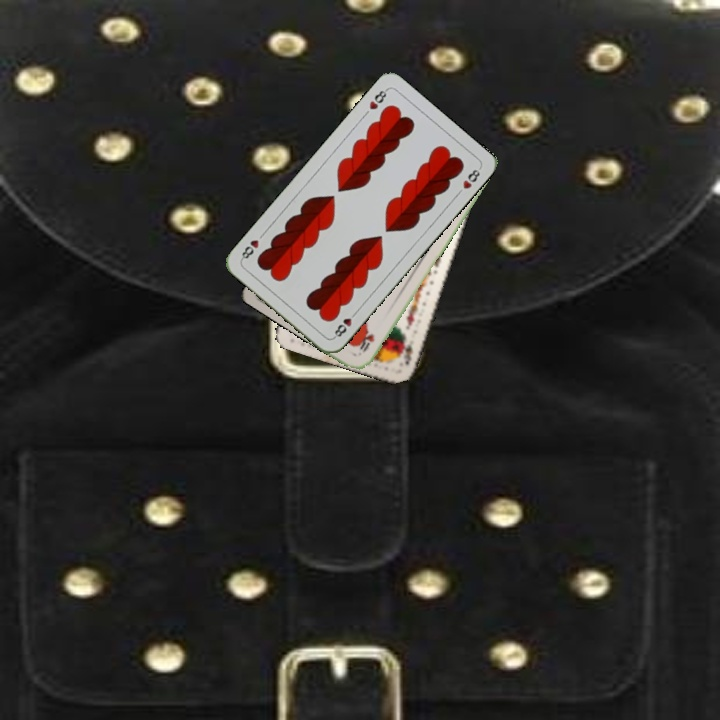H8: (329, 307, 360, 341), (365, 85, 390, 112)
HO: (355, 327, 377, 355)
SK: (397, 336, 416, 368)
